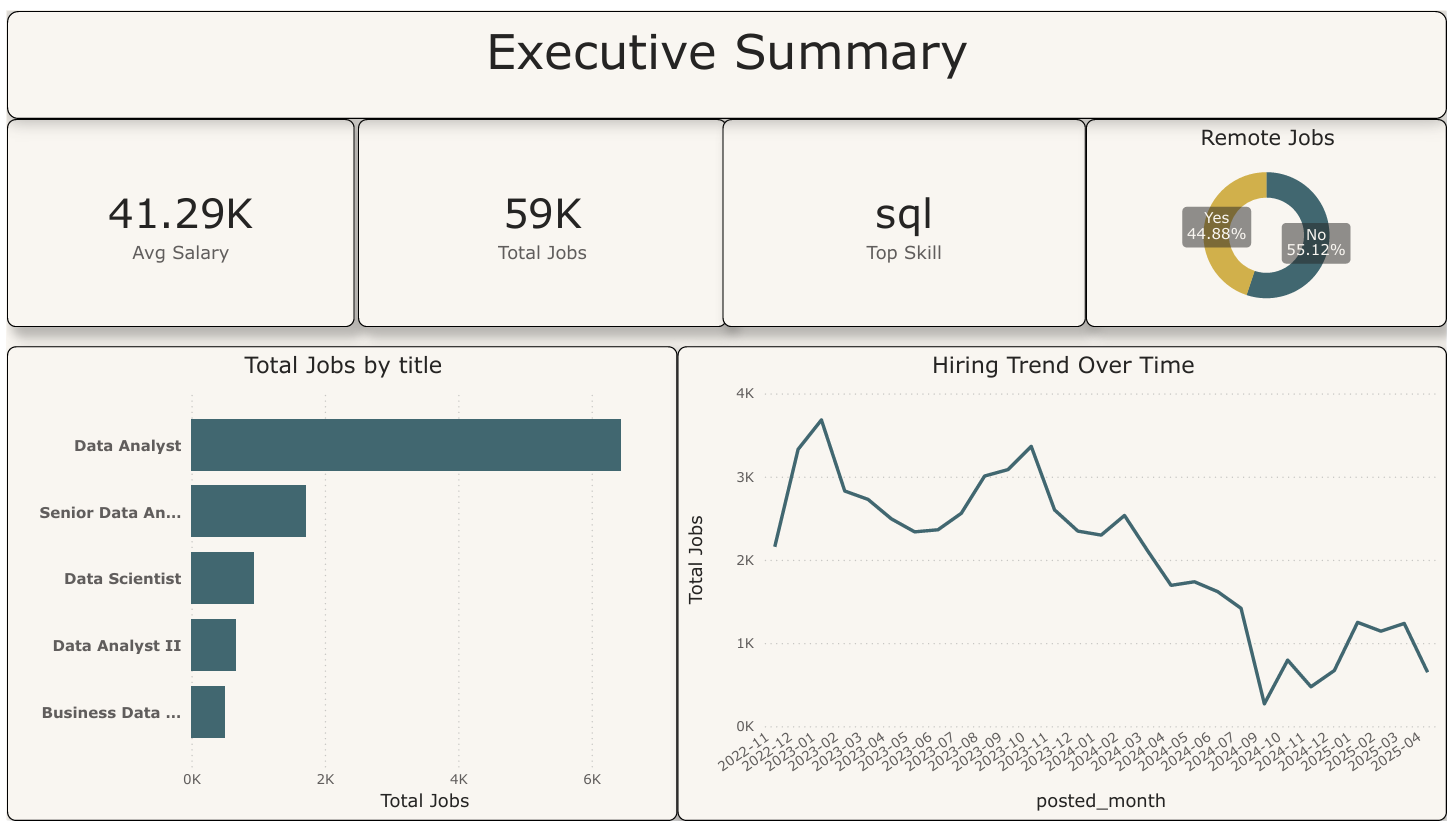

What the dashboard file says about the page in this screenshot:
{"tool":"powerbi","page":{"name":"Executive Summary","canvas":[1280,720],"ordinal":0},"visuals":[{"type":"card","fields":{"Values":["job_postings.Avg Salary"]},"box":[0,95.5,309.3,185.3],"z":0},{"type":"card","fields":{"Values":["job_postings.Total Jobs"]},"box":[312.2,95.5,327.8,185.3],"z":1000},{"type":"card","fields":{"Values":["job_postings.Top Skill"]},"box":[635.7,95.5,323.6,185.3],"z":2000},{"type":"donutChart","title":"Remote Jobs","fields":{"Category":["job_postings.work_from_home"],"Y":["CountNonNull(job_postings.job_id)"]},"box":[959.3,95.5,320.7,185.3],"z":3000},{"type":"clusteredBarChart","fields":{"Category":["job_postings.title"],"Y":["job_postings.Total Jobs"]},"box":[0,297.9,637.1,421.9],"z":4000},{"type":"lineChart","title":"Hiring Trend Over Time","fields":{"Category":["job_postings.posted_month"],"Y":["job_postings.Total Jobs"]},"box":[637.1,297.9,642.9,421.9],"z":5000},{"type":"textbox","box":[0,0,1280,95.5],"z":6000}]}

Visuals, with their boxes in screenshot pixels (x1, y1, x2, y2), scaled from the page's 1280x720 canvas onto the 1455x825 screenshot:
card - job_postings.Avg Salary: (0, 109, 352, 322)
card - job_postings.Total Jobs: (355, 109, 728, 322)
card - job_postings.Top Skill: (723, 109, 1090, 322)
"Remote Jobs" donutChart: (1090, 109, 1454, 322)
clusteredBarChart - job_postings.title x job_postings.Total Jobs: (0, 341, 724, 824)
"Hiring Trend Over Time" lineChart: (724, 341, 1454, 824)
textbox: (0, 0, 1454, 109)
